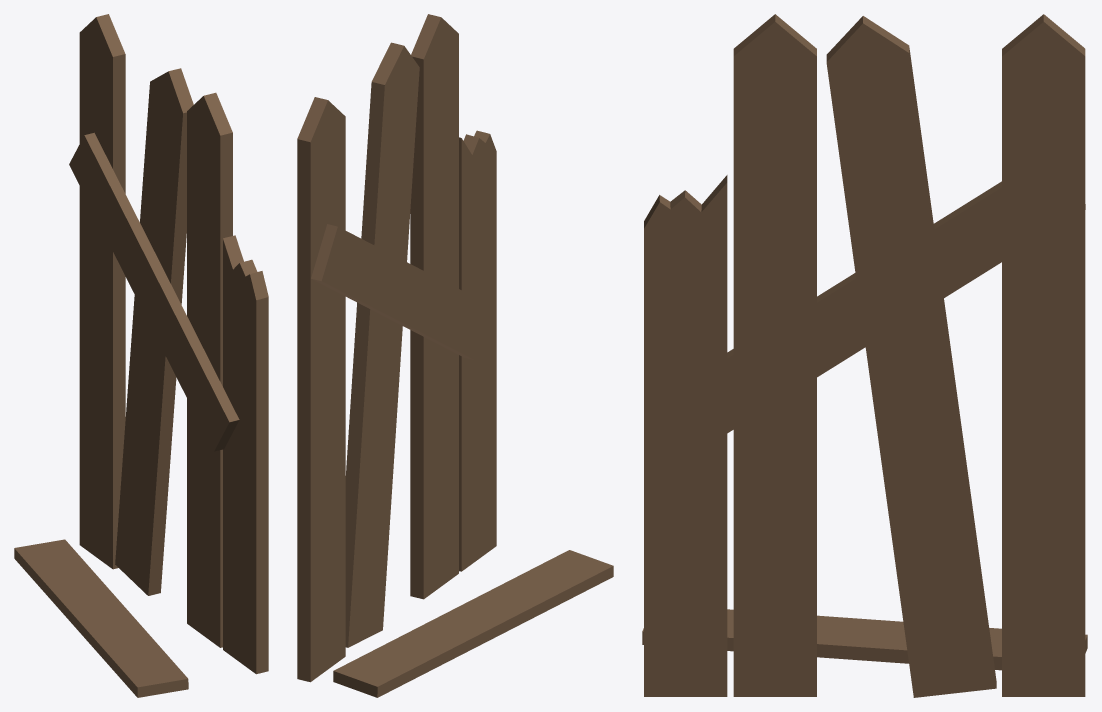
The model's file is picket_fence_tall_broken_A.gltf.
The picture shows the model from 3 angles, left to right: view 1: azimuth 30°, elevation 25°; view 2: azimuth 150°, elevation 25°; view 3: azimuth 270°, elevation 25°; orthographic projection. The views are drawn at different scales.
Parts seen in each view (by area): view 1: Plank5, Plank2, Plank4, Plank3, CrossBoard, CrossBoard.001; view 2: Plank5, Plank2, Plank3, Plank4, CrossBoard.001, CrossBoard; view 3: Plank2, Plank5, Plank3, Plank4, CrossBoard, CrossBoard.001.
Part boxes in pixels (box(x1,y1,x2,y2)): Plank5: box(79, 14, 125, 569); Plank2: box(115, 68, 193, 595); Plank4: box(223, 235, 268, 674); Plank3: box(187, 92, 232, 647); CrossBoard: box(69, 132, 239, 451); CrossBoard.001: box(14, 539, 188, 697); Plank5: box(297, 97, 345, 682); Plank2: box(345, 42, 419, 647); Plank3: box(410, 14, 458, 599); Plank4: box(459, 130, 496, 571); CrossBoard.001: box(333, 550, 613, 697); CrossBoard: box(311, 224, 490, 359); Plank2: box(826, 16, 996, 697); Plank5: box(1002, 14, 1085, 696); Plank3: box(733, 14, 816, 696); Plank4: box(644, 175, 727, 696); CrossBoard: box(727, 181, 1085, 433); CrossBoard.001: box(642, 609, 1087, 670).
Bounding box in the file's own units: 0.9409 × 3.82 × 2.28.
